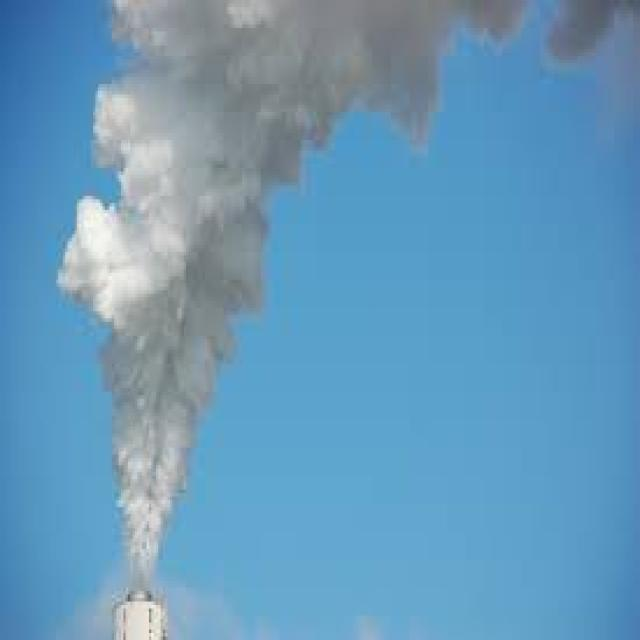Smoke: (53, 0, 526, 584), (544, 0, 640, 63)
